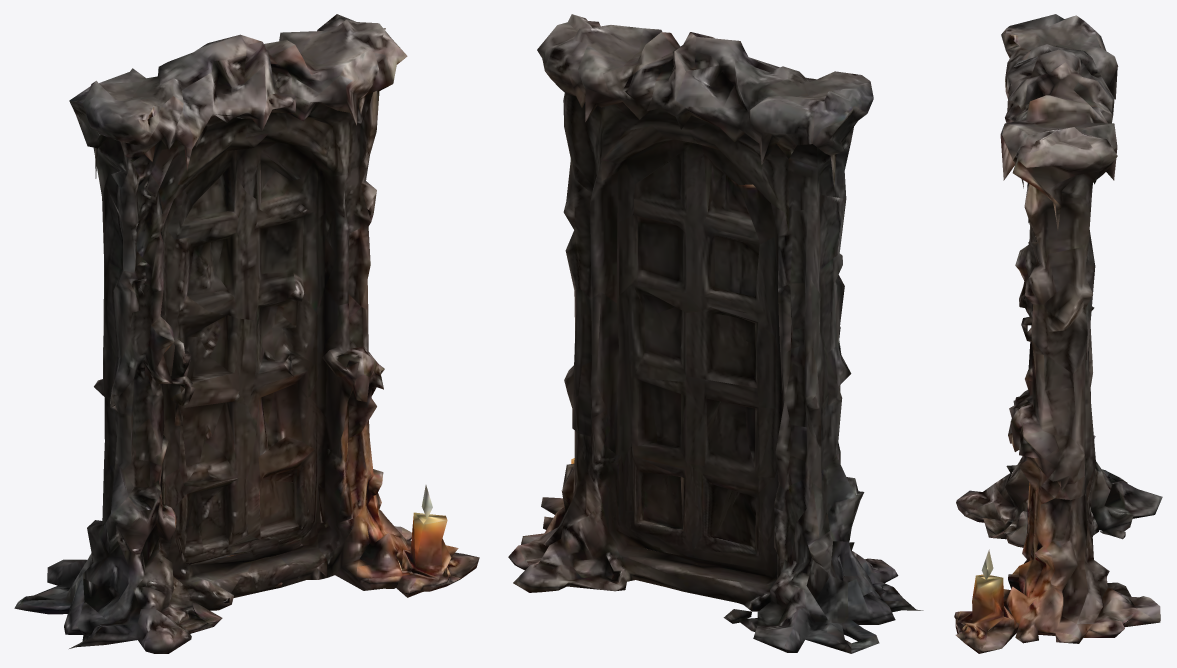
The model's file is wax_door.glb.
The picture shows the model from 3 angles, left to right: view 1: azimuth 30°, elevation 25°; view 2: azimuth 150°, elevation 25°; view 3: azimuth 270°, elevation 25°; orthographic projection. The views are drawn at different scales.
Visible parts, largest first — view 1: tripo_node_599c5e3b-9e37-4d52-b266-e9cd452d8859; view 2: tripo_node_599c5e3b-9e37-4d52-b266-e9cd452d8859; view 3: tripo_node_599c5e3b-9e37-4d52-b266-e9cd452d8859.
Part boxes in pixels (<box>): tripo_node_599c5e3b-9e37-4d52-b266-e9cd452d8859: <box>14,14,479,653</box>; tripo_node_599c5e3b-9e37-4d52-b266-e9cd452d8859: <box>508,14,923,653</box>; tripo_node_599c5e3b-9e37-4d52-b266-e9cd452d8859: <box>954,14,1162,653</box>.
Size of the model in its own units: 0.7521 by 0.98 by 0.3656.
1 material, 1 textured.
